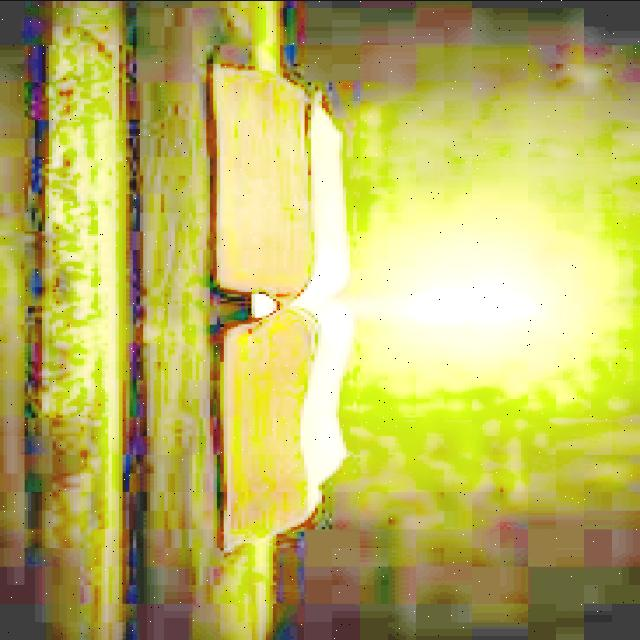api: (435, 280, 540, 329)
